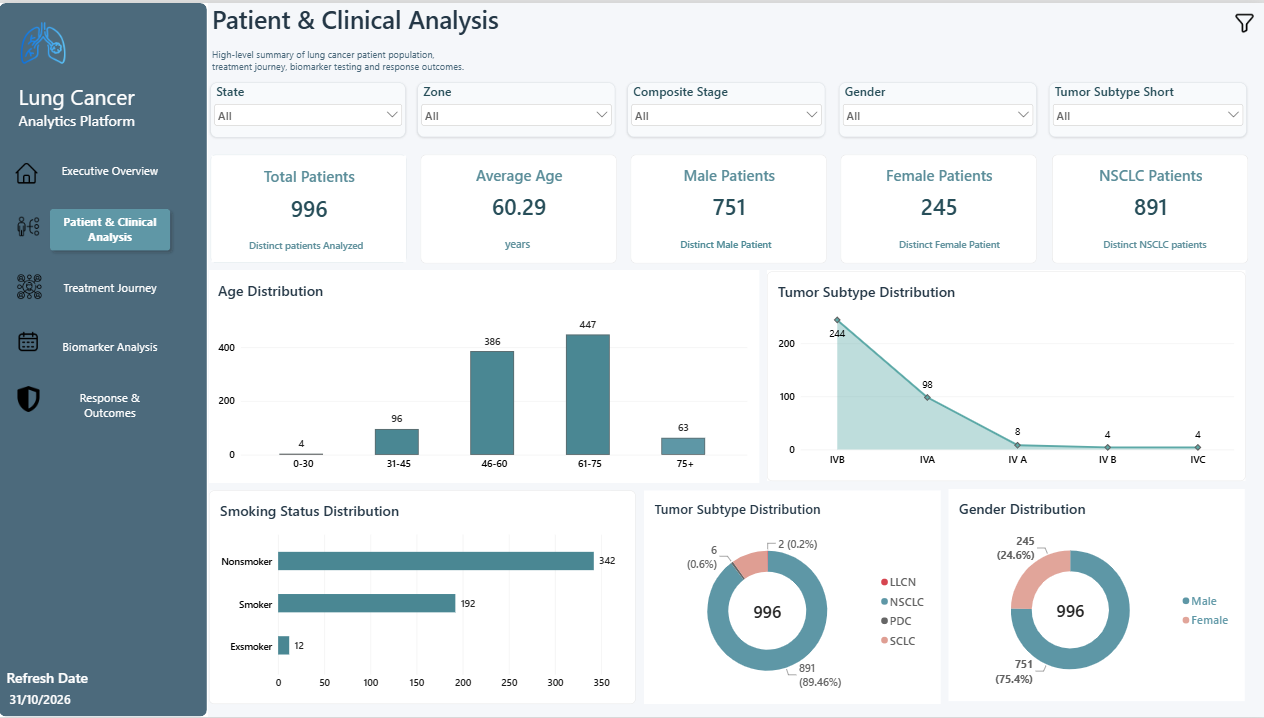

This screenshot's page, from the dashboard's own definition file:
{"tool":"powerbi","page":{"name":"Patient & Clinical Analysis","canvas":[1920,1080],"ordinal":1},"visuals":[{"type":"group","id":"g1","title":"Filter Plane","box":[0,0,293,1080.4],"z":0,"group":"g5"},{"type":"shape","title":"Plane","box":[0,0,293,1080.4],"z":0,"group":"g1"},{"type":"textbox","box":[323.1,0,656.3,108.4],"z":0},{"type":"slicer","fields":{"Values":["Dim_Patient.Tumor Subtype Short"]},"box":[1588.8,120.1,299.6,82.9],"z":0,"group":"g6"},{"type":"image","box":[23.9,302.3,36.1,72.7],"z":0,"group":"g2"},{"type":"textbox","box":[11.4,1006.2,174.9,31.8],"z":0,"group":"g7"},{"type":"image","box":[27.6,16.7,69.4,89.1],"z":1000,"group":"g1"},{"type":"slicer","fields":{"Values":["Dim_Patient.Zone"]},"box":[633.8,120.1,299.6,82.9],"z":1000,"group":"g6"},{"type":"pageNavigator","box":[68,213.8,200.1,438.2],"z":1000,"group":"g5"},{"type":"cardVisual","fields":{"Data":["Dim_Patient.Female Patients"]},"box":[1274.5,229.7,297.9,165],"z":1000},{"type":"image","box":[23.9,576.5,36.4,50.4],"z":1000,"group":"g2"},{"type":"cardVisual","fields":{"Data":["Dim_Patient.Refresh Date Display"]},"box":[0,1038,156.7,31],"z":1000,"group":"g7"},{"type":"slicer","fields":{"Values":["lung_cancer_analysis.COMPOSITE STAGE"]},"box":[952.2,120.1,299.6,82.9],"z":2000,"group":"g6"},{"type":"textbox","box":[27.6,120.5,182.4,92.7],"z":2000,"group":"g1"},{"type":"image","box":[23,228.2,31.3,61.6],"z":2000,"group":"g2"},{"type":"cardVisual","fields":{"Data":["Dim_Patient.Male Patients"]},"box":[955.6,229.7,297.9,165.8],"z":2000},{"type":"shape","box":[318,404.3,833.6,322.5],"z":2000,"group":"g4"},{"type":"slicer","fields":{"Values":["Dim_Patient.State"]},"box":[319.6,120.1,295.5,83.3],"z":3000,"group":"g6"},{"type":"group","id":"g2","title":"Group 3","box":[23,228.2,37.4,398.6],"z":3000,"group":"g1"},{"type":"cardVisual","fields":{"Data":["Dim_Patient.NSCLC Patients"]},"box":[1593.5,229.7,297.9,165.8],"z":3000},{"type":"image","box":[25.8,405.8,34.6,50.4],"z":3000,"group":"g2"},{"type":"shape","box":[1437.1,736.4,448.9,321.2],"z":3000,"group":"g3"},{"type":"slicer","fields":{"Values":["Dim_Patient.Gender"]},"box":[1270.5,120.1,299.6,82.9],"z":4000,"group":"g6"},{"type":"image","box":[27.6,481.3,27.3,67.2],"z":4000,"group":"g2"},{"type":"group","id":"g3","title":"Group 4","box":[1437.1,736,449.3,323.4],"z":4000},{"type":"group","id":"g4","title":"Group 5","box":[316.4,404.3,835.2,324.1],"z":5000},{"type":"group","id":"g5","title":"Group 6","box":[0,0,293,1080.4],"z":6000},{"type":"donutChart","title":"Tumor Subtype Distribution","fields":{"Series":["Dim_Patient.Tumor Subtype Short"],"Y":["Dim_Patient.Total Patients"]},"box":[976.1,737.9,449.3,323.4],"z":7000},{"type":"image","box":[1867,0,38,61],"z":8000},{"type":"cardVisual","fields":{"Data":["Dim_Patient.Total Patients"]},"box":[319.6,229,297,164.6],"z":9000},{"type":"cardVisual","fields":{"Data":["Dim_Patient.Average Age"]},"box":[637.6,228.5,297,165.8],"z":10000},{"type":"columnChart","title":"Age Distribution","fields":{"Category":["Dim_Patient.Age Group"],"Y":["Dim_Patient.Total Patients"]},"box":[316.4,405.9,833.6,322.5],"z":10001,"group":"g4"},{"type":"donutChart","title":"Gender Distribution","fields":{"Category":["Dim_Patient.Gender"],"Y":["Dim_Patient.Total Patients"]},"box":[1437.2,736,448.9,323.4],"z":10002,"group":"g3"},{"type":"textbox","box":[369.9,356,193.7,43],"z":11000},{"type":"textbox","box":[635.3,354.4,298.3,36.8],"z":12000},{"type":"group","id":"g6","title":"Group 1","box":[319.6,120.1,1568.8,83.3],"z":13000},{"type":"shape","box":[1162.1,404.8,724.4,319.6],"z":14000},{"type":"lineChart","title":"Tumor Subtype Distribution","fields":{"Category":["lung_cancer_analysis.COMPOSITE STAGE"],"Y":["CountNonNull(lung_cancer_analysis.patient id)"]},"box":[1162.1,406.7,724.4,317.6],"z":15000},{"type":"shape","box":[320.3,738.2,606,320.3],"z":16000},{"type":"barChart","title":"Smoking Status Distribution","fields":{"Category":["Dim_Patient.Smoking status (Smoker, Nonsmoker, Exsmoker)"],"Y":["Dim_Patient.Total Patients"]},"box":[317.6,737.9,646,323.4],"z":17000},{"type":"textbox","box":[1655.5,354,193,23.7],"z":18000},{"type":"textbox","box":[1006.6,355.3,193,23],"z":19000},{"type":"textbox","box":[1345.3,354,193,23],"z":20000},{"type":"group","id":"g7","title":"Group 1","box":[0,1006.2,186.2,62.8],"z":20001}]}

Visuals, with their boxes on the page's 1920x1080 design canvas (x1, y1, x2, y2). These are canvas units, not pixel positions in the 1264x718 screenshot, which may show the page scaled, cropped or inside an application window:
"Filter Plane" group: [0, 0, 293, 1080]
"Plane" shape: [0, 0, 293, 1080]
textbox: [323, 0, 979, 108]
slicer - Dim_Patient.Tumor Subtype Short: [1589, 120, 1888, 203]
image: [24, 302, 60, 375]
textbox: [11, 1006, 186, 1038]
image: [28, 17, 97, 106]
slicer - Dim_Patient.Zone: [634, 120, 933, 203]
pageNavigator: [68, 214, 268, 652]
cardVisual - Dim_Patient.Female Patients: [1274, 230, 1572, 395]
image: [24, 576, 60, 627]
cardVisual - Dim_Patient.Refresh Date Display: [0, 1038, 157, 1069]
slicer - lung_cancer_analysis.COMPOSITE STAGE: [952, 120, 1252, 203]
textbox: [28, 120, 210, 213]
image: [23, 228, 54, 290]
cardVisual - Dim_Patient.Male Patients: [956, 230, 1254, 396]
shape: [318, 404, 1152, 727]
slicer - Dim_Patient.State: [320, 120, 615, 203]
"Group 3" group: [23, 228, 60, 627]
cardVisual - Dim_Patient.NSCLC Patients: [1594, 230, 1891, 396]
image: [26, 406, 60, 456]
shape: [1437, 736, 1886, 1058]
slicer - Dim_Patient.Gender: [1270, 120, 1570, 203]
image: [28, 481, 55, 548]
"Group 4" group: [1437, 736, 1886, 1059]
"Group 5" group: [316, 404, 1152, 728]
"Group 6" group: [0, 0, 293, 1080]
"Tumor Subtype Distribution" donutChart: [976, 738, 1425, 1061]
image: [1867, 0, 1905, 61]
cardVisual - Dim_Patient.Total Patients: [320, 229, 617, 394]
cardVisual - Dim_Patient.Average Age: [638, 228, 935, 394]
"Age Distribution" columnChart: [316, 406, 1150, 728]
"Gender Distribution" donutChart: [1437, 736, 1886, 1059]
textbox: [370, 356, 564, 399]
textbox: [635, 354, 934, 391]
"Group 1" group: [320, 120, 1888, 203]
shape: [1162, 405, 1886, 724]
"Tumor Subtype Distribution" lineChart: [1162, 407, 1886, 724]
shape: [320, 738, 926, 1058]
"Smoking Status Distribution" barChart: [318, 738, 964, 1061]
textbox: [1656, 354, 1848, 378]
textbox: [1007, 355, 1200, 378]
textbox: [1345, 354, 1538, 377]
"Group 1" group: [0, 1006, 186, 1069]
